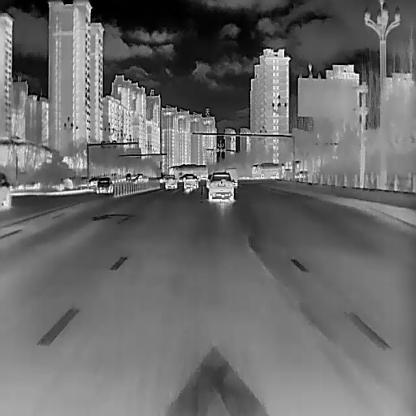car: (207, 171, 235, 200), (167, 162, 208, 181), (0, 171, 15, 211), (250, 161, 281, 179), (96, 176, 113, 194), (163, 173, 178, 189), (225, 167, 237, 186), (183, 173, 198, 188), (86, 177, 97, 186)
